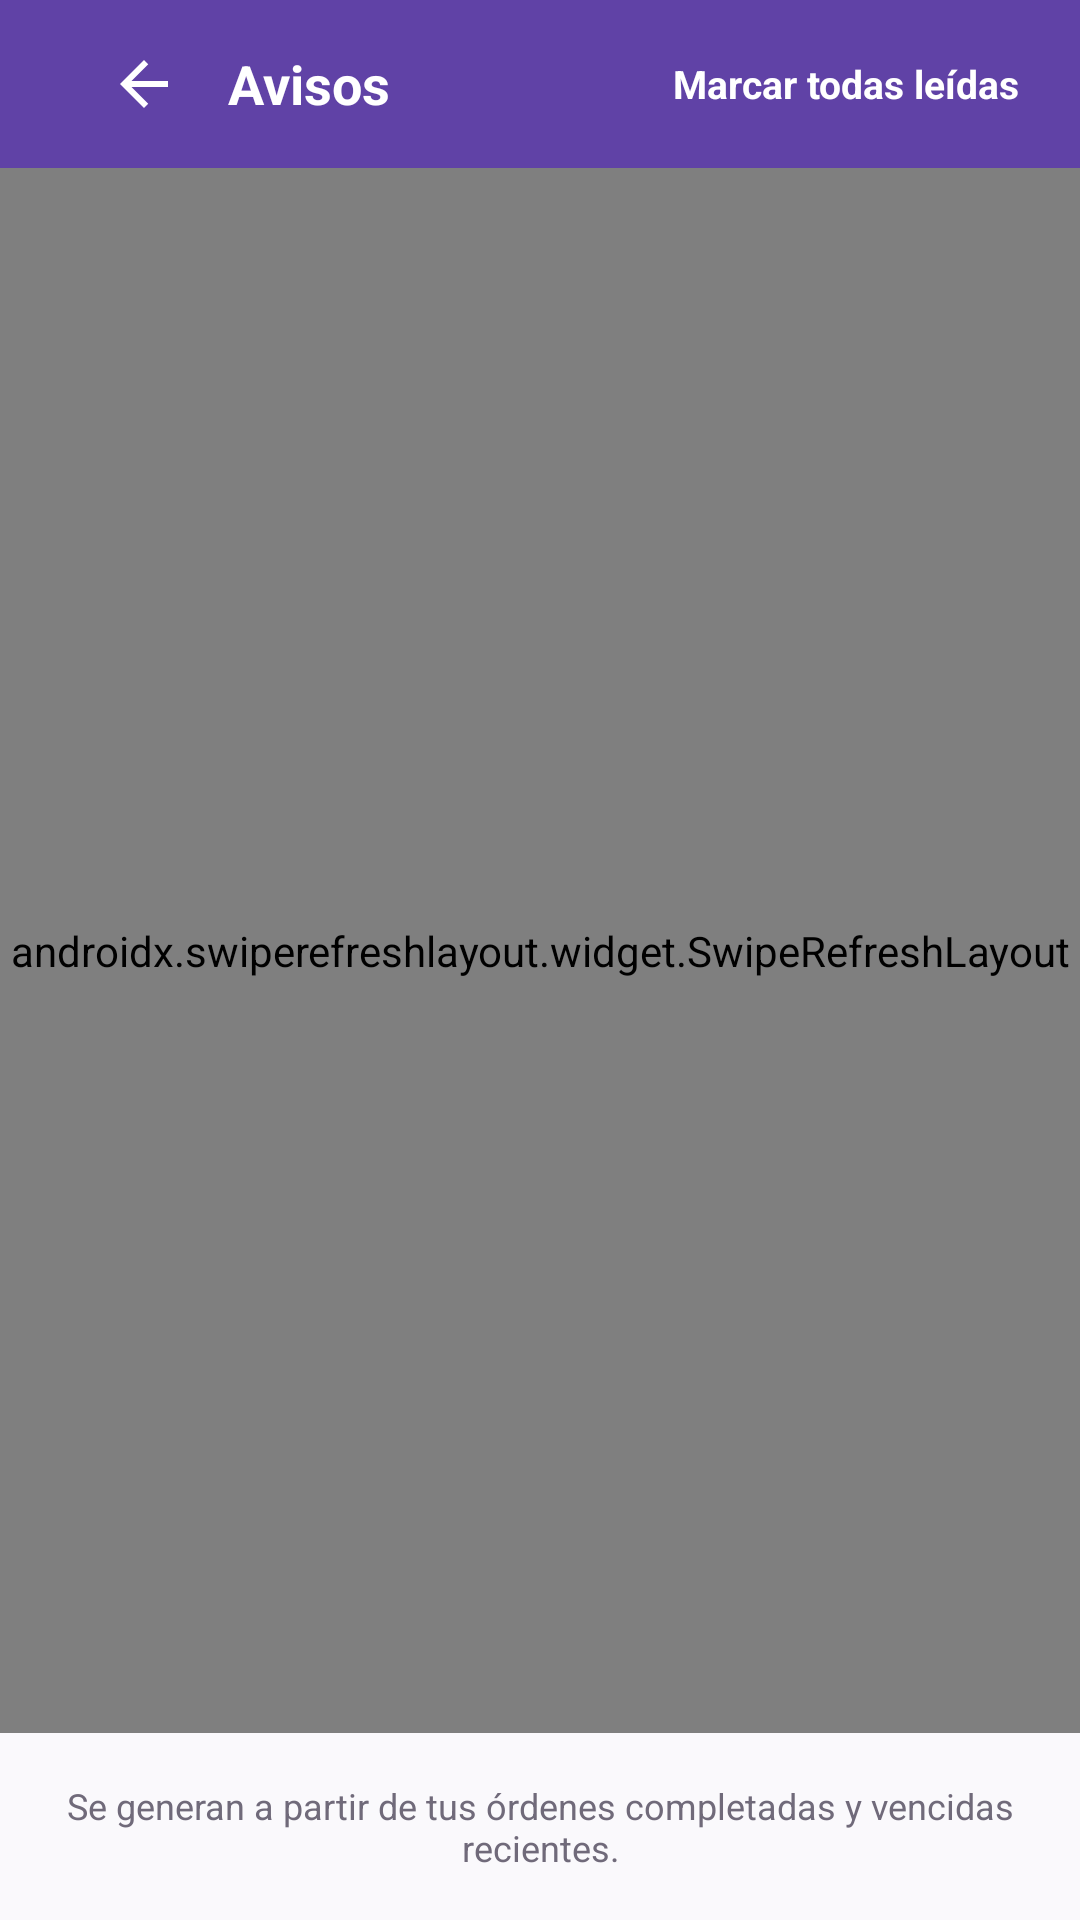

Where icons sit on this 1080x1920 app screen, as (x1, y1, x2, y2):
Volver: (120, 60, 168, 108)
